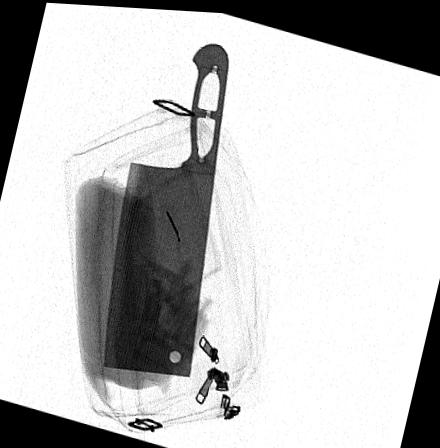Knife: (103, 38, 230, 375)
